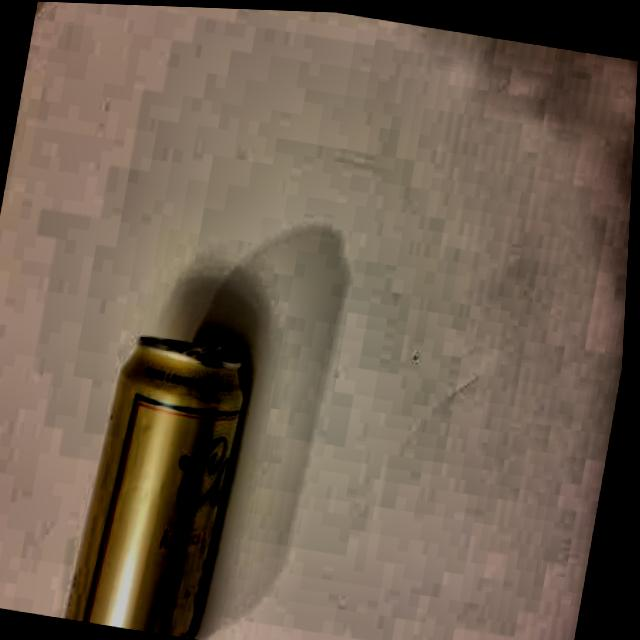Cans: (76, 322, 260, 638)
